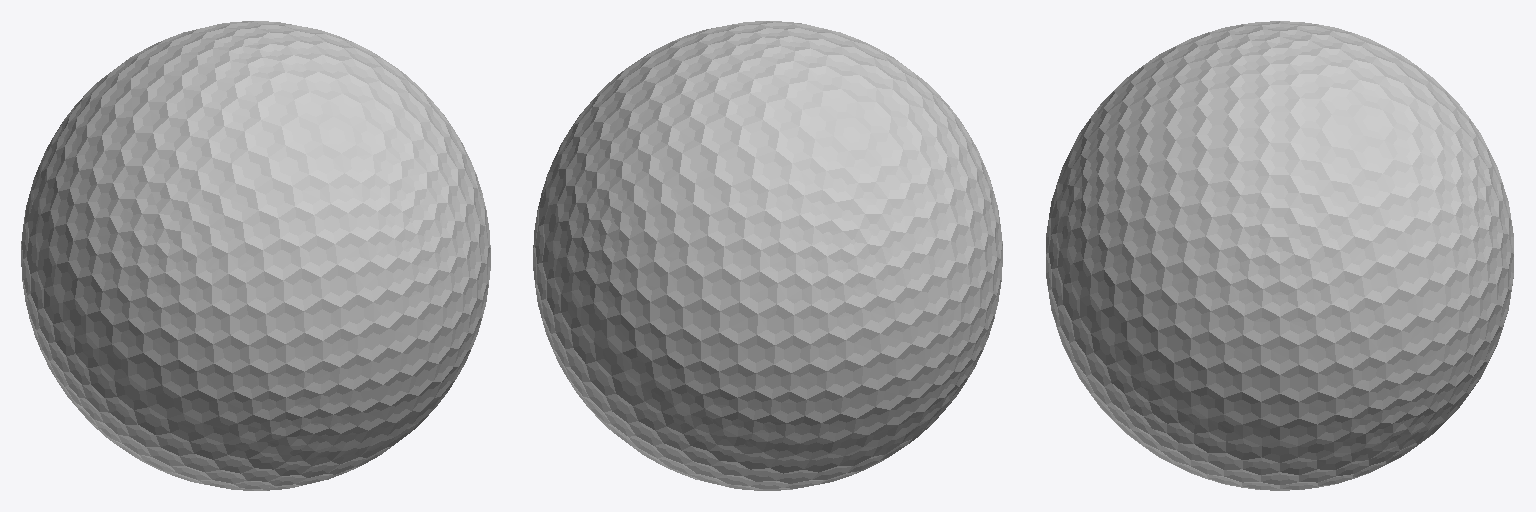
Rendered from Ball.obj.
3 views of the same model, side by side, from view 1: azimuth 30°, elevation 25°; view 2: azimuth 150°, elevation 25°; view 3: azimuth 270°, elevation 25° (orthographic).
Parts seen in each view (by area): view 1: Ball_Icosphere; view 2: Ball_Icosphere; view 3: Ball_Icosphere.
Boxes of the visible parts, box(x1,y1,x2,y2) form: Ball_Icosphere: box(21, 21, 490, 490); Ball_Icosphere: box(533, 21, 1002, 490); Ball_Icosphere: box(1046, 21, 1513, 490).
Bounding box in the file's own units: 1.98 × 1.99 × 1.98.